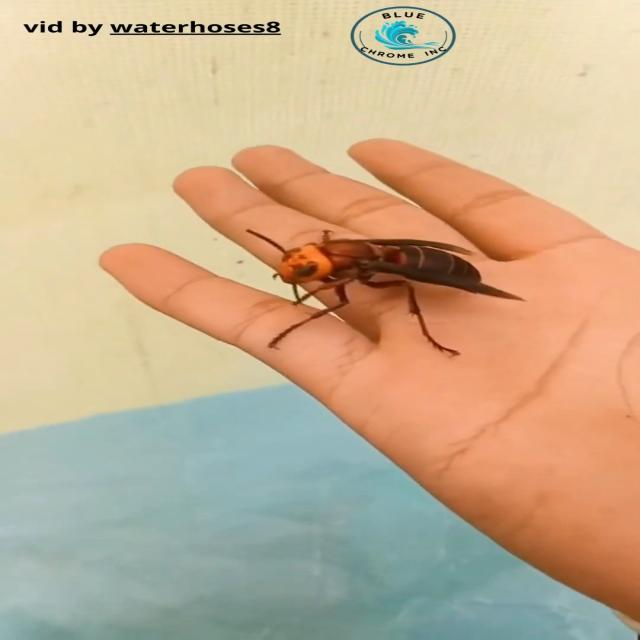Hornets: (240, 228, 530, 359)
